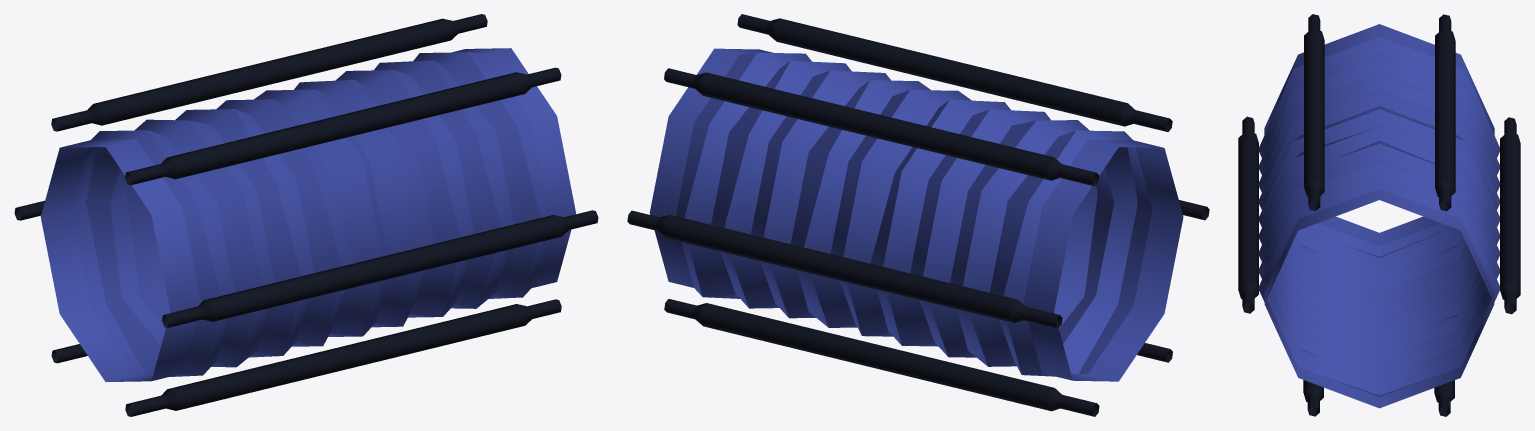
Rendered from PipeSmall_ZigZagZhing_Short.fbx.
The picture shows the model from 3 angles, left to right: view 1: azimuth 30°, elevation 25°; view 2: azimuth 150°, elevation 25°; view 3: azimuth 270°, elevation 25°; orthographic projection. The views are drawn at different scales.
Parts seen in each view (by area): view 1: PipeSmall_ZigZagZhing_Short.001; view 2: PipeSmall_ZigZagZhing_Short.001; view 3: PipeSmall_ZigZagZhing_Short.001.
Boxes of the visible parts, left/top/right/bottom form: PipeSmall_ZigZagZhing_Short.001: left=14, top=14, right=598, bottom=416; PipeSmall_ZigZagZhing_Short.001: left=627, top=14, right=1209, bottom=416; PipeSmall_ZigZagZhing_Short.001: left=1238, top=14, right=1520, bottom=416.
Bounding box in the file's own units: 0.1922 × 0.1082 × 0.1233.
